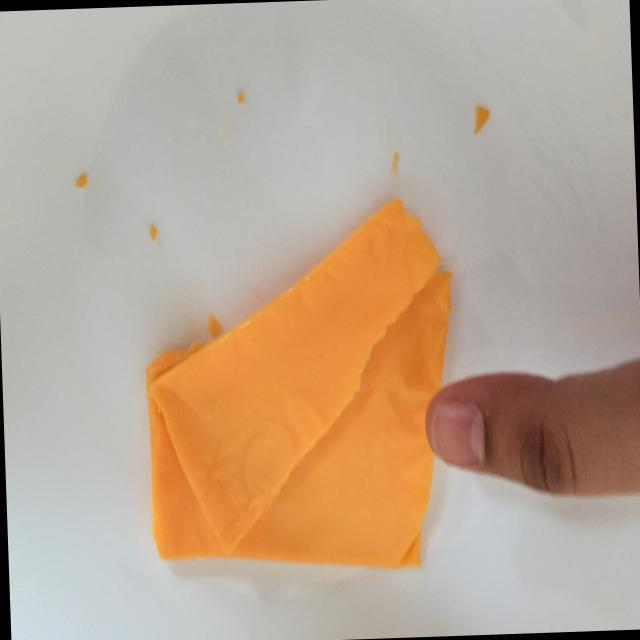Cheese: (137, 194, 462, 566)
Finger: (419, 343, 640, 507)
